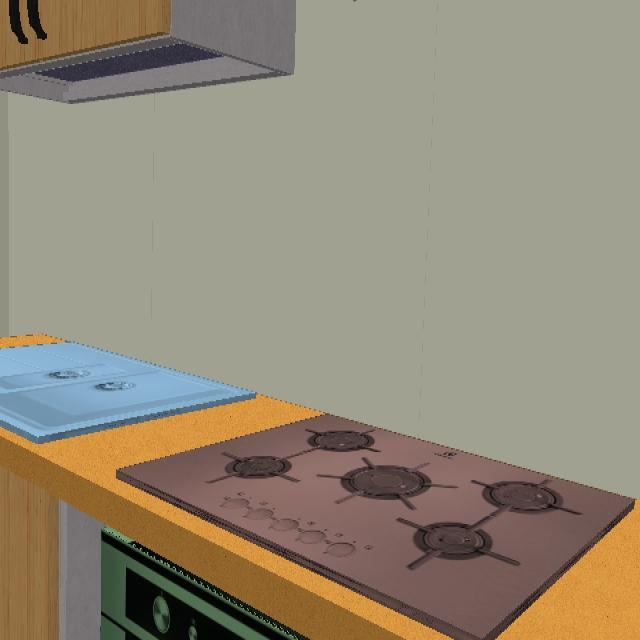countertop: (0, 392, 640, 640)
oven: (95, 535, 306, 640)
sink: (0, 340, 250, 445)
stove: (118, 416, 634, 640)
